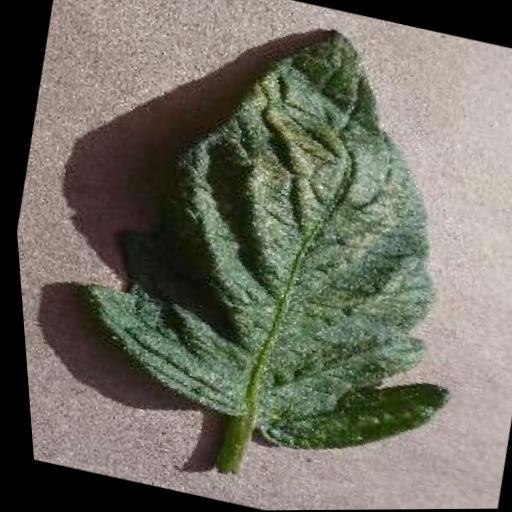Spider Mites: (34, 0, 512, 484)
